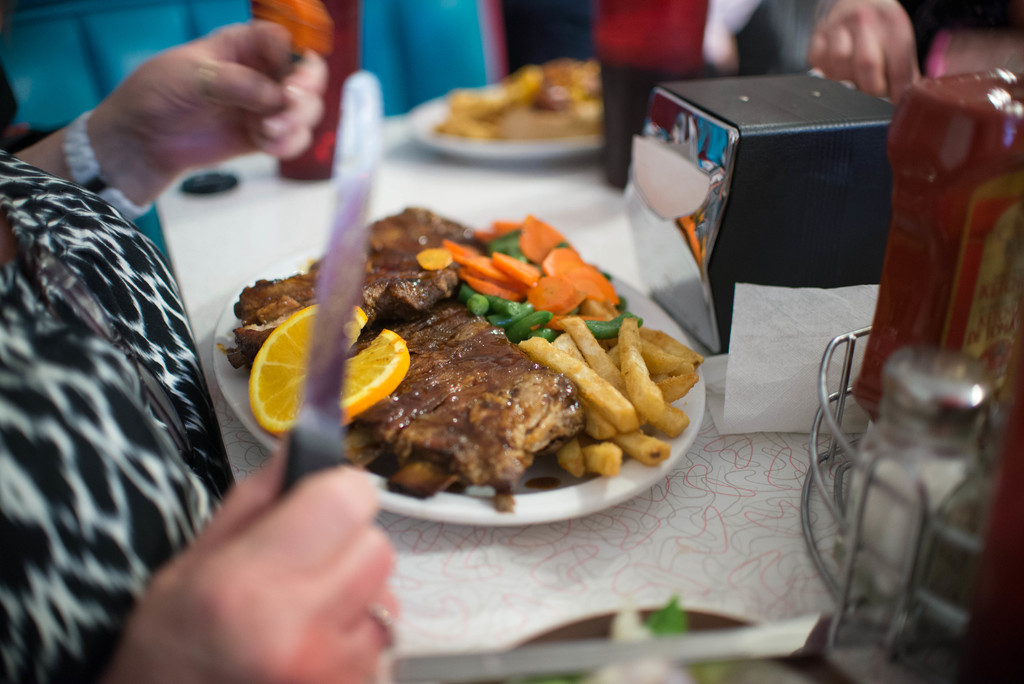French fries: (515, 295, 694, 475)
